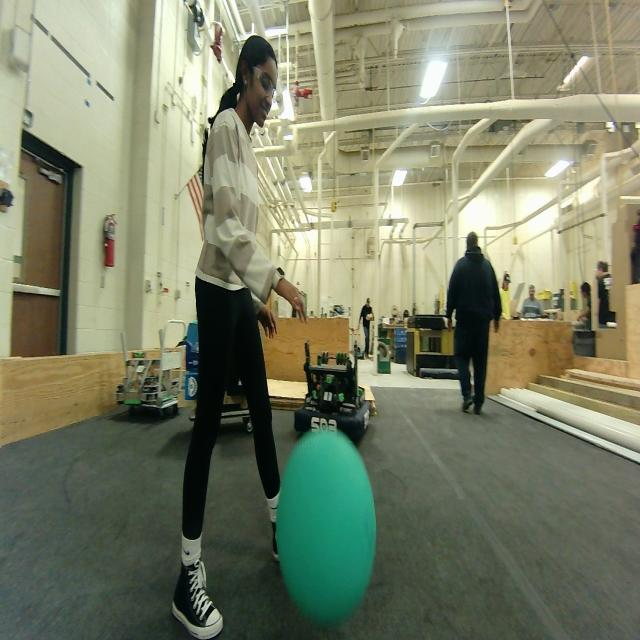algae: (279, 427, 377, 617)
